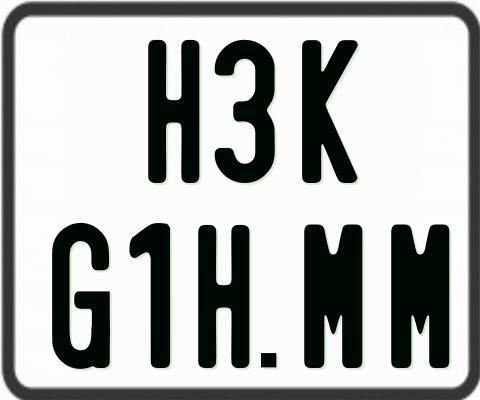1: (129, 220, 170, 371)
3: (215, 39, 281, 188)
G: (51, 222, 115, 372)
H: (197, 223, 251, 372), (146, 39, 200, 187)
K: (301, 37, 362, 181)
M: (389, 224, 450, 368), (304, 222, 362, 368)
